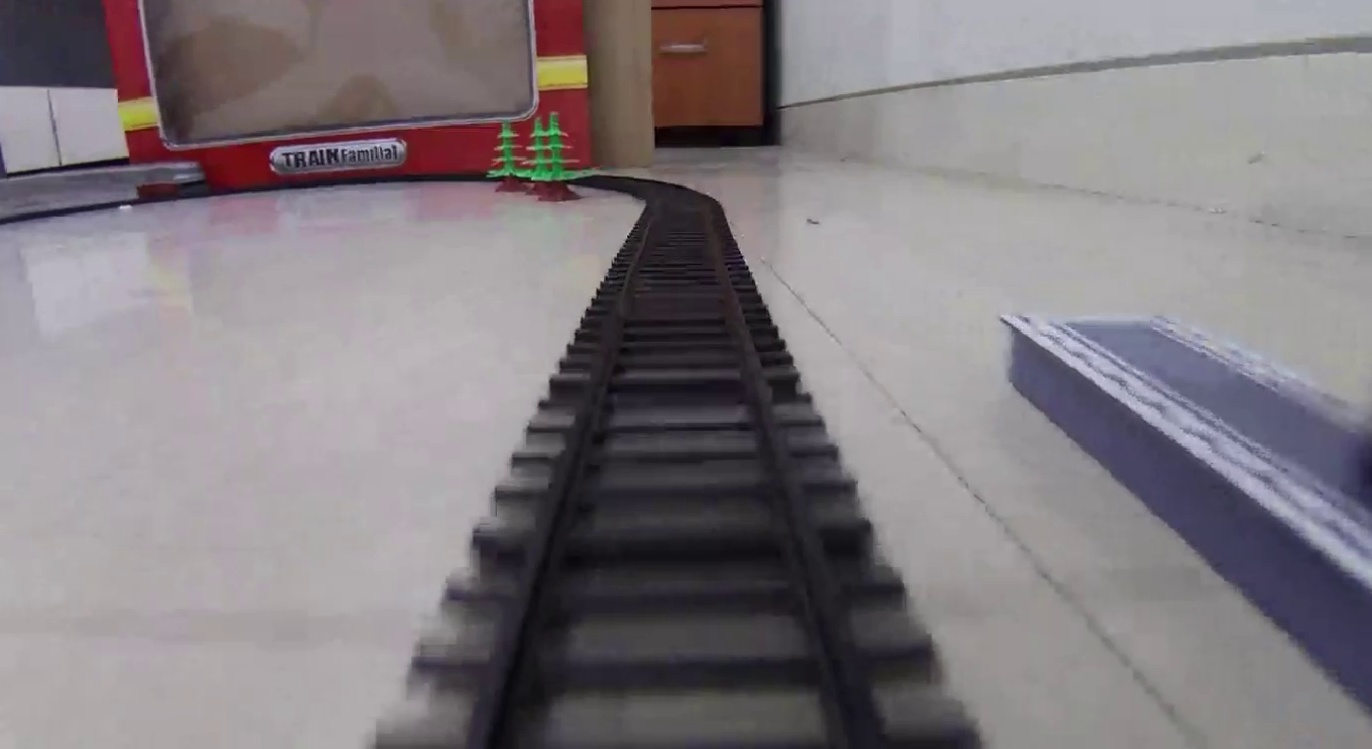tree: (542, 113, 576, 202), (521, 116, 554, 199), (492, 121, 528, 194)
